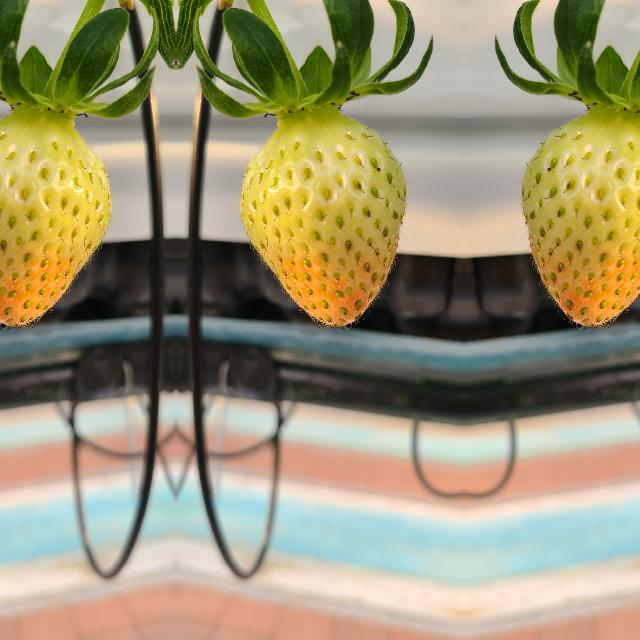Health_25: (239, 114, 407, 332), (519, 114, 640, 332), (0, 114, 111, 332)
